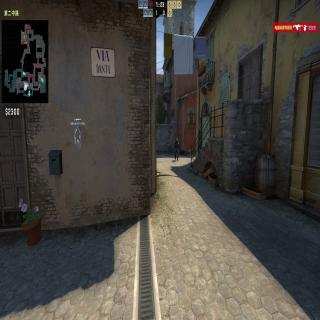T-Body: (173, 136, 180, 161)
T-Head: (176, 136, 178, 140)
